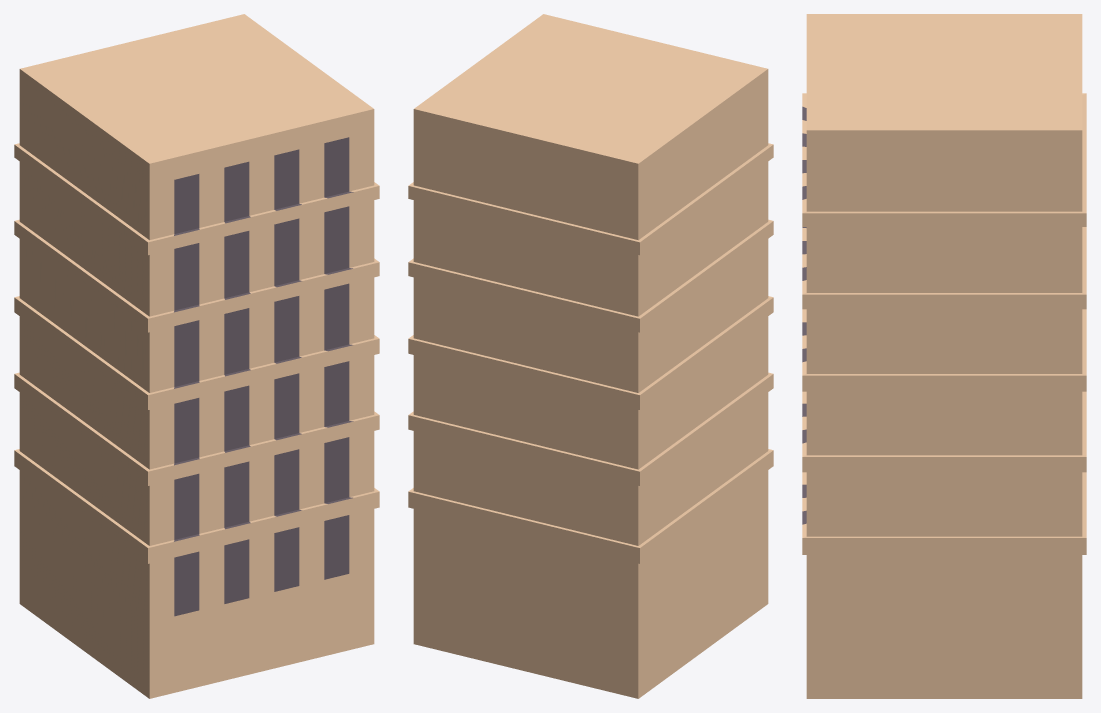
3 renders of one model, left to right at view 1: azimuth 30°, elevation 25°; view 2: azimuth 150°, elevation 25°; view 3: azimuth 270°, elevation 25°, orthographic. The views are drawn at different scales.
Visible parts, largest first — view 1: Cube.004; view 2: Cube.004; view 3: Cube.004.
Boxes of the visible parts, left/top/right/bottom form: Cube.004: left=14, top=14, right=379, bottom=698; Cube.004: left=408, top=14, right=773, bottom=698; Cube.004: left=802, top=14, right=1086, bottom=698.
Size of the model in its own units: 998 by 2203 by 998.
